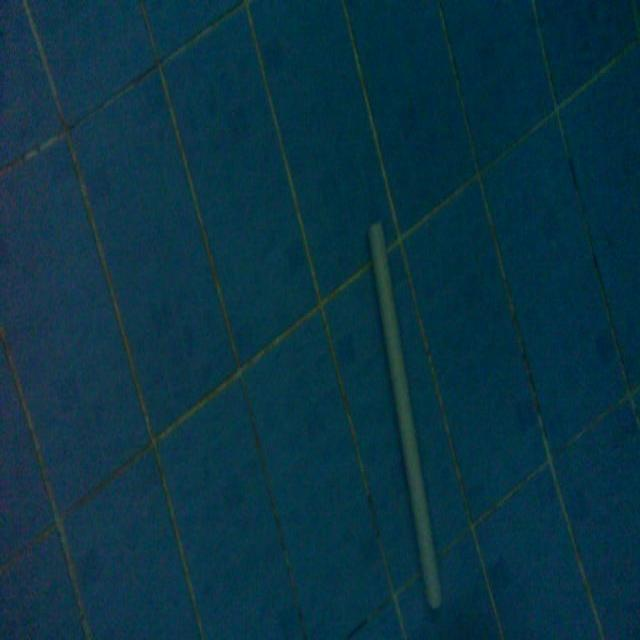Cube: (365, 214, 445, 612)
